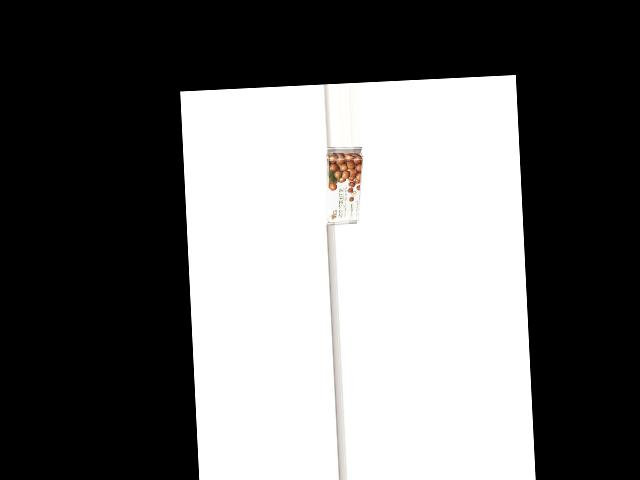chocolate: (325, 146, 366, 225)
